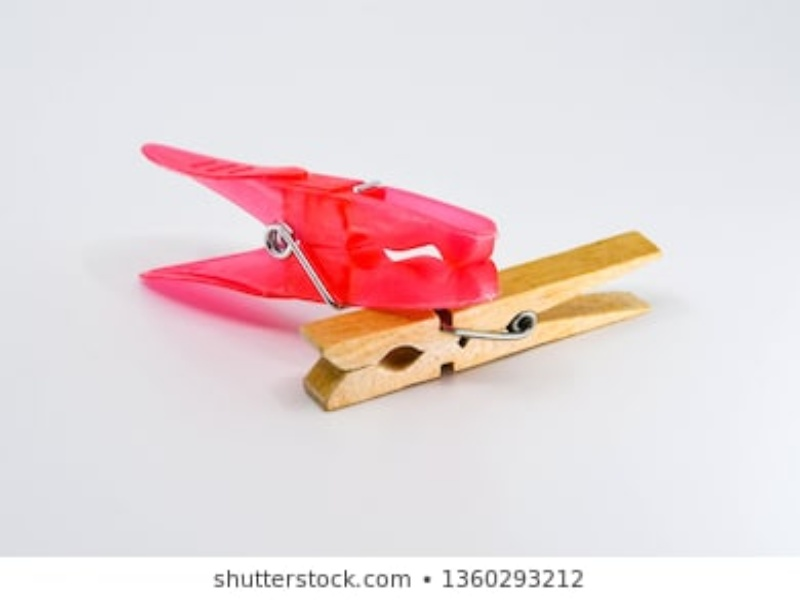plastic-peg: (135, 140, 499, 310)
